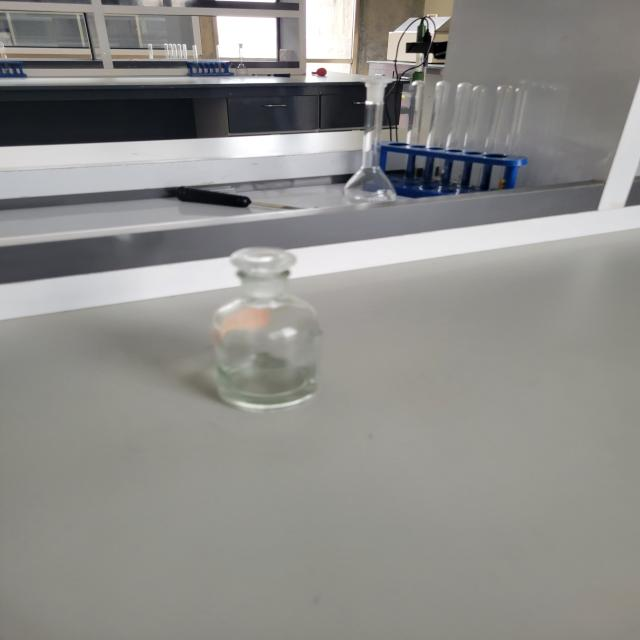Reagent_Bottle: (197, 227, 338, 421)
